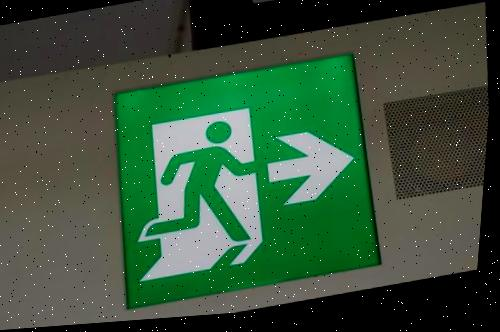emergency_exit: (111, 52, 382, 310)
